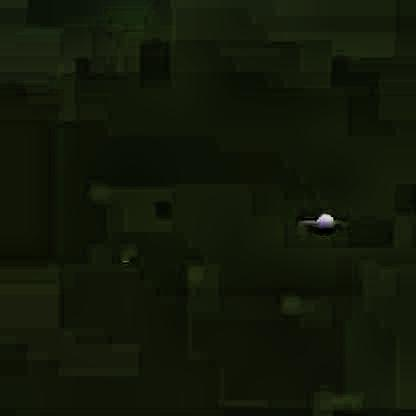golfball: (315, 210, 333, 230)
